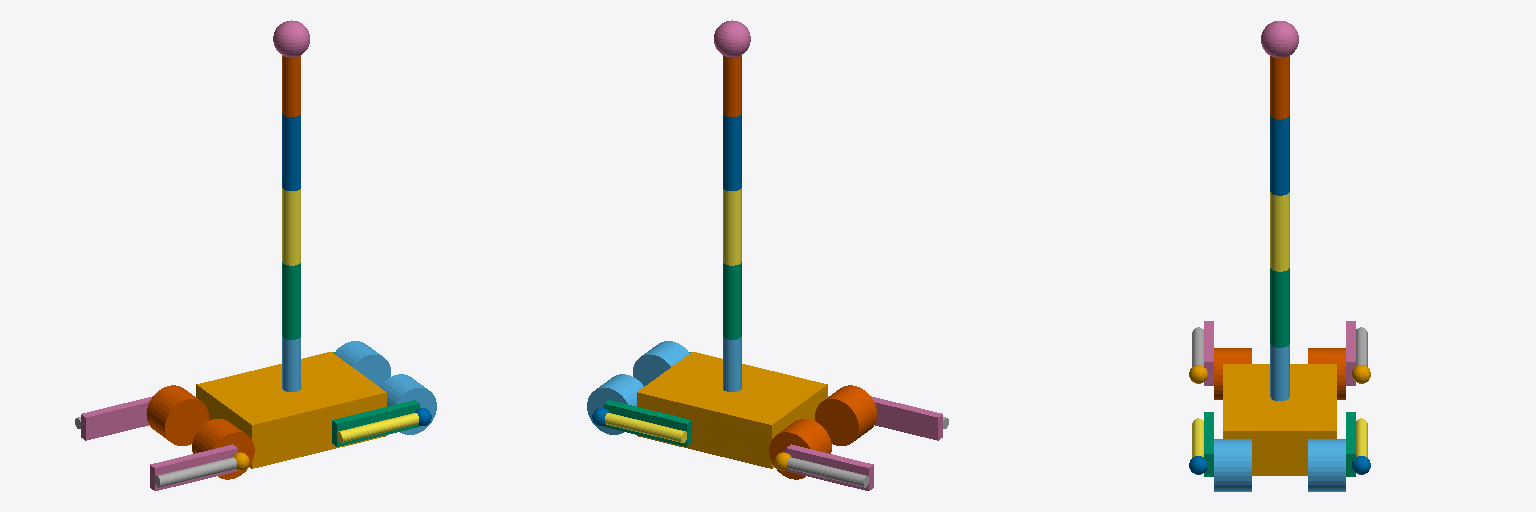
--- Facts derived from the render (not from the file) ---
3 views of the same robot in one strip: view 1: azimuth 30°, elevation 25°; view 2: azimuth 150°, elevation 25°; view 3: azimuth 270°, elevation 25° (orthographic).
Robot: spirit — 23 links, 22 joints (17 revolute, 5 fixed); root link body; default pose: every joint at zero.
Links seen in each view (by area): view 1: body, hip1, upper1, hip3, hip2, upper2, tail_link_2, upper3, tail_link_1, tail_link_3, hip0, tail_link_4 (+4 smaller); view 2: body, hip3, upper3, hip1, hip0, upper0, tail_link_2, upper1, tail_link_1, tail_link_3, hip2, tail_link_4 (+4 smaller); view 3: body, hip0, hip2, tail_link_1, tail_link_3, tail_link_2, tail_link_4, tail_mass, tail_link_0, hip1, hip3, upper0 (+3 smaller).
Boxes of the visible links, left/top/right/bottom form: body: left=196, top=352, right=386, bottom=468; hip1: left=146, top=385, right=208, bottom=445; upper1: left=81, top=396, right=152, bottom=440; hip3: left=192, top=419, right=254, bottom=479; hip2: left=380, top=374, right=436, bottom=434; upper2: left=332, top=400, right=419, bottom=446; tail_link_2: left=282, top=188, right=300, bottom=265; upper3: left=150, top=444, right=237, bottom=490; tail_link_1: left=282, top=262, right=300, bottom=339; tail_link_3: left=282, top=114, right=300, bottom=190; hip0: left=334, top=341, right=390, bottom=386; tail_link_4: left=282, top=55, right=300, bottom=116; body: left=637, top=352, right=827, bottom=468; hip3: left=815, top=385, right=877, bottom=445; upper3: left=871, top=396, right=942, bottom=440; hip1: left=769, top=419, right=831, bottom=479; hip0: left=587, top=374, right=643, bottom=434; upper0: left=604, top=400, right=691, bottom=446; tail_link_2: left=723, top=188, right=741, bottom=265; upper1: left=786, top=444, right=873, bottom=490; tail_link_1: left=723, top=262, right=741, bottom=339; tail_link_3: left=723, top=114, right=741, bottom=190; hip2: left=633, top=341, right=689, bottom=386; tail_link_4: left=723, top=55, right=741, bottom=116; body: left=1223, top=364, right=1336, bottom=475; hip0: left=1308, top=439, right=1345, bottom=491; hip2: left=1214, top=439, right=1251, bottom=491; tail_link_1: left=1270, top=268, right=1289, bottom=347; tail_link_3: left=1270, top=116, right=1289, bottom=195; tail_link_2: left=1270, top=192, right=1289, bottom=271; tail_link_4: left=1270, top=56, right=1289, bottom=119; tail_mass: left=1261, top=21, right=1298, bottom=57; tail_link_0: left=1270, top=344, right=1289, bottom=400; hip1: left=1308, top=348, right=1345, bottom=399; hip3: left=1214, top=348, right=1251, bottom=399; upper0: left=1346, top=412, right=1355, bottom=476.
Size in the robot's own frame: 0.7136 by 0.382 by 0.9766 metres.
Geometry: primitives only (box / cylinder / sphere), no mesh files.

robot.urdf — spirit:
<?xml version="1.0" encoding="utf-8"?>
<!-- =================================================================================== -->
<!-- |    This document was autogenerated by xacro from xacro/spirit_gazebo_tail.urdf.xacro | -->
<!-- |    EDITING THIS FILE BY HAND IS NOT RECOMMENDED                                 | -->
<!-- =================================================================================== -->
<!-- 
MIT License (modified)

Copyright (c) 2020 Ghost Robotics
Authors:
Avik De <[email redacted]>
Tom Jacobs <[email redacted]>

Permission is hereby granted, free of charge, to any person obtaining a copy
of this **file** (the "Software"), to deal
in the Software without restriction, including without limitation the rights
to use, copy, modify, merge, publish, distribute, sublicense, and/or sell
copies of the Software, and to permit persons to whom the Software is
furnished to do so, subject to the following conditions:

The above copyright notice and this permission notice shall be included in all
copies or substantial portions of the Software.

THE SOFTWARE IS PROVIDED "AS IS", WITHOUT WARRANTY OF ANY KIND, EXPRESS OR
IMPLIED, INCLUDING BUT NOT LIMITED TO THE WARRANTIES OF MERCHANTABILITY,
FITNESS FOR A PARTICULAR PURPOSE AND NONINFRINGEMENT. IN NO EVENT SHALL THE
AUTHORS OR COPYRIGHT HOLDERS BE LIABLE FOR ANY CLAIM, DAMAGES OR OTHER
LIABILITY, WHETHER IN AN ACTION OF CONTRACT, TORT OR OTHERWISE, ARISING FROM,
OUT OF OR IN CONNECTION WITH THE SOFTWARE OR THE USE OR OTHER DEALINGS IN THE
SOFTWARE. 
-->
<robot name="spirit">
  <!-- Plugins -->
  <gazebo>
    <plugin filename="libgazebo_ros_control.so" name="gazebo_ros_control">
      <robotNamespace>/spirit</robotNamespace>
      <controlPeriod>0.002</controlPeriod>
    </plugin>
    <plugin filename="libground_truth_estimator.so" name="ground_truth_estimator">
      <updateRateHz>500.0</updateRateHz>
    </plugin>
  </gazebo>
  <!--link name="body_dummy">
		<inertial>
			<mass value="${bodyMass}" />
			<inertia ixx="0.05" ixy="0" ixz="0" iyy="0.1" iyz="0" izz="0.1" />
		</inertial>
	</link>
	<joint name="dummy_joint" type="fixed">
		<parent link="body_dummy" />
		<child link="body" />
	</joint-->
  <!-- Body -->
  <link name="body">
    <visual>
      <origin rpy="0 0 0" xyz="0 0 0"/>
      <geometry>
        <box size="0.335 0.24 0.104"/>
      </geometry>
      <material name="darkgray"/>
    </visual>
    <inertial>
      <mass value="7.388"/>
      <!--<mass value="${bodyMass}" /> -->
      <!-- Uniform box -->
      <!-- <inertia ixx="1/12*${bodyMass}*(${bodyWidth}*${bodyWidth} + ${bodyHeight}*${bodyHeight})"  ixy="0"  ixz="0" iyy="1/12*${bodyMass}*(${bodyLength}*${bodyLength} + ${bodyHeight}*${bodyHeight})" iyz="0" izz="1/12*${bodyMass}*(${bodyLength}*${bodyLength} + ${bodyWidth}*${bodyWidth})"/> -->
      <inertia ixx="0.0642434782" ixy="0" ixz="0" iyy="0.1284869565" iyz="0" izz="0.1284869565"/>
      <!--<inertia ixx="0.05" ixy="0" ixz="0" iyy="0.1" iyz="0" izz="0.1" />-->
    </inertial>
    <!-- Just copy geometry for collision -->
    <collision>
      <origin rpy="0 0 0" xyz="0 0 0"/>
      <geometry>
        <box size="0.335 0.24 0.104"/>
      </geometry>
    </collision>
  </link>
  <gazebo reference="body">
    <material>Gazebo/Black</material>
  </gazebo>
  <!-- Hip motor -->
  <link name="hip0">
    <visual>
      <origin rpy="1.5707963268 0 0" xyz="0 0.028 0"/>
      <geometry>
        <cylinder length="0.08" radius="0.055"/>
      </geometry>
    </visual>
    <collision>
      <origin rpy="1.5707963268 0 0" xyz="0 0.028 0"/>
      <geometry>
        <cylinder length="0.08" radius="0.055"/>
      </geometry>
    </collision>
    <inertial>
      <origin rpy="1.5707963268 0 0" xyz="0 0.028 0"/>
      <mass value="0.575"/>
      <inertia ixx="0.000741510416667" ixy="0" ixz="0" iyy="0.000741510416667" iyz="0" izz="0.0008696875"/>
      <!-- Okay for now... forgot when cylinder is formed what direction is x pointing in -->
      <!--inertia ixx="0.00066963541" ixy="0" ixz="0" iyy="0.00066963541" iyz="0" izz="0.0008696875" /-->
    </inertial>
  </link>
  <gazebo reference="hip0">
    <material>Gazebo/Grey</material>
  </gazebo>
  <!-- Abduction joint. Joint names are: 8 9 10 11 -->
  <joint name="8" type="revolute">
    <parent link="body"/>
    <child link="hip0"/>
    <axis xyz="1 0 0"/>
    <origin xyz="0.2263 0.07 0"/>
    <limit effort="21" lower="-0.707" upper="0.707" velocity="37.7"/>
    <dynamics damping="0.0" friction="0.0"/>
  </joint>
  <!-- Transmission elements required for Gazebo -->
  <transmission name="transmission_8">
    <type>transmission_interface/SimpleTransmission</type>
    <joint name="8">
      <hardwareInterface>hardware_interface/EffortJointInterface</hardwareInterface>
    </joint>
    <actuator name="motor_8">
      <hardwareInterface>EffortJointInterface</hardwareInterface>
      <mechanicalReduction>1</mechanicalReduction>
    </actuator>
  </transmission>
  <!-- Upper leg -->
  <link name="upper0">
    <visual>
      <origin rpy="0 0 0" xyz="-0.103 -0.022 0"/>
      <geometry>
        <box size="0.206 0.022 0.055"/>
      </geometry>
      <material name="silver"/>
    </visual>
    <collision>
      <origin rpy="0 0 0" xyz="-0.103 -0.022 0"/>
      <geometry>
        <box size="0.206 0.022 0.055"/>
      </geometry>
    </collision>
    <inertial>
      <origin rpy="0 0 0" xyz="-0.103 -0.022 0"/>
      <mass value="0.792"/>
      <!--<inertia ixx="${upperLegIxx}" ixy="0" ixz="0" iyy="${upperLegIyy}" iyz="0" izz="${upperLegIzz}" /> -->
      <inertia ixx="0.000231594" ixy="0" ixz="0" iyy="0.003000426" iyz="0" izz="0.00283272"/>
    </inertial>
  </link>
  <gazebo reference="upper0">
    <self_collide>0</self_collide>
    <material>Gazebo/DarkGrey</material>
  </gazebo>
  <!-- Hip joint. (Motor to upper leg). Joint names are: 0 2 4 6 -->
  <joint name="0" type="revolute">
    <parent link="hip0"/>
    <child link="upper0"/>
    <axis xyz="0 -1 0"/>
    <origin xyz="0 0.10098 0"/>
    <!--  rpy="0 -0.3 0" -->
    <limit effort="21" lower="-1.57" upper="3.14" velocity="37.7"/>
    <dynamics damping="0.0" friction="0.0"/>
  </joint>
  <!-- Transmission elements required for Gazebo -->
  <transmission name="transmission_0">
    <type>transmission_interface/SimpleTransmission</type>
    <joint name="0">
      <hardwareInterface>hardware_interface/EffortJointInterface</hardwareInterface>
    </joint>
    <actuator name="motor_0">
      <hardwareInterface>EffortJointInterface</hardwareInterface>
      <mechanicalReduction>1</mechanicalReduction>
    </actuator>
  </transmission>
  <!-- Lower leg -->
  <link name="lower0">
    <self_collide>0</self_collide>
    <visual>
      <origin rpy="0 1.5707963268 0" xyz="0.103 0 0"/>
      <geometry>
        <cylinder length="0.206" radius="0.013"/>
      </geometry>
      <material name="darkgray"/>
    </visual>
    <collision>
      <origin rpy="0 1.5707963268 0" xyz="0.103 0 0"/>
      <geometry>
        <cylinder length="0.206" radius="0.013"/>
      </geometry>
    </collision>
    <inertial>
      <origin rpy="0 0 0" xyz="0.103 0 0"/>
      <mass value="0.075"/>
      <!--inertia ixx="${lowerLegIxx}" ixy="0" ixz="0" iyy="${lowerLegIyy}" iyz="0" izz="${lowerLegIzz}" /-->
      <inertia ixx="2.193125e-05" ixy="0" ixz="0" iyy="0.00028413125" iyz="0" izz="0.00026825"/>
    </inertial>
  </link>
  <gazebo reference="lower0">
    <material>Gazebo/Grey</material>
  </gazebo>
  <!-- Knee joint. Joint names are: 1 3 5 7 -->
  <joint name="1" type="revolute">
    <parent link="upper0"/>
    <child link="lower0"/>
    <axis xyz="0 1 0"/>
    <origin xyz="-0.206 0 0"/>
    <!--rpy="0 0.5 0"-->
    <!--<limit effort="${jointEffortLimit}" velocity="${jointSpeedLimit}" lower="0" upper="${pi}" />-->
    <limit effort="32" lower="-6.28" upper="6.28" velocity="25.1"/>
    <dynamics damping="0.0" friction="0.0"/>
  </joint>
  <!-- Transmission elements required for Gazebo -->
  <transmission name="transmission_1">
    <type>transmission_interface/SimpleTransmission</type>
    <joint name="1">
      <hardwareInterface>hardware_interface/EffortJointInterface</hardwareInterface>
    </joint>
    <actuator name="motor_1">
      <hardwareInterface>EffortJointInterface</hardwareInterface>
      <mechanicalReduction>1</mechanicalReduction>
    </actuator>
  </transmission>
  <!-- Toe -->
  <link name="toe0">
    <contact>
      <friction_anchor/>
      <stiffness value="30000.0"/>
      <damping value="1000.0"/>
      <spinning_friction value="0.3"/>
      <lateral_friction value="50.0"/>
    </contact>
    <visual>
      <origin rpy="0 0 0" xyz="0 0 0"/>
      <geometry>
        <sphere radius="0.02"/>
      </geometry>
      <material name="darkgray"/>
    </visual>
    <collision>
      <origin rpy="0 0 0" xyz="0 0 0"/>
      <geometry>
        <sphere radius="0.02"/>
      </geometry>
    </collision>
    <inertial>
      <mass value="0.015"/>
      <inertia ixx="0.000025" ixy="0" ixz="0" iyy="0.000025" iyz="0" izz="0.000025"/>
      <!-- <inertia ixx="2/5*${toeMass}*${toeRadius}*${toeRadius}"  ixy="0"  ixz="0" iyy="2/5*${toeMass}*${toeRadius}*${toeRadius}" iyz="0" izz="2/5*${toeMass}*${toeRadius}*${toeRadius}" /> -->
    </inertial>
  </link>
  <gazebo reference="toe0">
    <self_collide>0</self_collide>
    <material>Gazebo/Black</material>
    <collision>
      <surface>
        <bounce>
          <restitution_coefficient>0</restitution_coefficient>
          <threshold>1e+06</threshold>
        </bounce>
        <friction>
          <torsional>
            <coefficient>0.3</coefficient>
          </torsional>
          <ode>
            <mu>100.0</mu>
            <mu2>50.0</mu2>
          </ode>
          <bullet>
            <rolling_friction>0.3</rolling_friction>
            <friction2>50.0</friction2>
          </bullet>
        </friction>
        <contact>
          <bullet>
            <kp>30000.0</kp>
            <kd>1000.0</kd>
          </bullet>
          <ode>
            <kp>30000.0</kp>
            <kd>1000.0</kd>
          </ode>
        </contact>
      </surface>
    </collision>
  </gazebo>
  <joint name="jtoe0" type="fixed">
    <parent link="lower0"/>
    <child link="toe0"/>
    <origin xyz="0.206 0 -0.0"/>
    <dynamics damping="0.0" friction="0.0"/>
  </joint>
  <!-- Hip motor -->
  <link name="hip1">
    <visual>
      <origin rpy="1.5707963268 0 0" xyz="0 0.028 0"/>
      <geometry>
        <cylinder length="0.08" radius="0.055"/>
      </geometry>
    </visual>
    <collision>
      <origin rpy="1.5707963268 0 0" xyz="0 0.028 0"/>
      <geometry>
        <cylinder length="0.08" radius="0.055"/>
      </geometry>
    </collision>
    <inertial>
      <origin rpy="1.5707963268 0 0" xyz="0 0.028 0"/>
      <mass value="0.575"/>
      <inertia ixx="0.000741510416667" ixy="0" ixz="0" iyy="0.000741510416667" iyz="0" izz="0.0008696875"/>
      <!-- Okay for now... forgot when cylinder is formed what direction is x pointing in -->
      <!--inertia ixx="0.00066963541" ixy="0" ixz="0" iyy="0.00066963541" iyz="0" izz="0.0008696875" /-->
    </inertial>
  </link>
  <gazebo reference="hip1">
    <material>Gazebo/Grey</material>
  </gazebo>
  <!-- Abduction joint. Joint names are: 8 9 10 11 -->
  <joint name="9" type="revolute">
    <parent link="body"/>
    <child link="hip1"/>
    <axis xyz="1 0 0"/>
    <origin xyz="-0.2263 0.07 0"/>
    <limit effort="21" lower="-0.707" upper="0.707" velocity="37.7"/>
    <dynamics damping="0.0" friction="0.0"/>
  </joint>
  <!-- Transmission elements required for Gazebo -->
  <transmission name="transmission_9">
    <type>transmission_interface/SimpleTransmission</type>
    <joint name="9">
      <hardwareInterface>hardware_interface/EffortJointInterface</hardwareInterface>
    </joint>
    <actuator name="motor_9">
      <hardwareInterface>EffortJointInterface</hardwareInterface>
      <mechanicalReduction>1</mechanicalReduction>
    </actuator>
  </transmission>
  <!-- Upper leg -->
  <link name="upper1">
    <visual>
      <origin rpy="0 0 0" xyz="-0.103 -0.022 0"/>
      <geometry>
        <box size="0.206 0.022 0.055"/>
      </geometry>
      <material name="silver"/>
    </visual>
    <collision>
      <origin rpy="0 0 0" xyz="-0.103 -0.022 0"/>
      <geometry>
        <box size="0.206 0.022 0.055"/>
      </geometry>
    </collision>
    <inertial>
      <origin rpy="0 0 0" xyz="-0.103 -0.022 0"/>
      <mass value="0.792"/>
      <!--<inertia ixx="${upperLegIxx}" ixy="0" ixz="0" iyy="${upperLegIyy}" iyz="0" izz="${upperLegIzz}" /> -->
      <inertia ixx="0.000231594" ixy="0" ixz="0" iyy="0.003000426" iyz="0" izz="0.00283272"/>
    </inertial>
  </link>
  <gazebo reference="upper1">
    <self_collide>0</self_collide>
    <material>Gazebo/DarkGrey</material>
  </gazebo>
  <!-- Hip joint. (Motor to upper leg). Joint names are: 0 2 4 6 -->
  <joint name="2" type="revolute">
    <parent link="hip1"/>
    <child link="upper1"/>
    <axis xyz="0 -1 0"/>
    <origin xyz="0 0.10098 0"/>
    <!--  rpy="0 -0.3 0" -->
    <limit effort="21" lower="-1.57" upper="3.14" velocity="37.7"/>
    <dynamics damping="0.0" friction="0.0"/>
  </joint>
  <!-- Transmission elements required for Gazebo -->
  <transmission name="transmission_2">
    <type>transmission_interface/SimpleTransmission</type>
    <joint name="2">
      <hardwareInterface>hardware_interface/EffortJointInterface</hardwareInterface>
    </joint>
    <actuator name="motor_2">
      <hardwareInterface>EffortJointInterface</hardwareInterface>
      <mechanicalReduction>1</mechanicalReduction>
    </actuator>
  </transmission>
  <!-- Lower leg -->
  <link name="lower1">
    <self_collide>0</self_collide>
    <visual>
      <origin rpy="0 1.5707963268 0" xyz="0.103 0 0"/>
      <geometry>
        <cylinder length="0.206" radius="0.013"/>
      </geometry>
      <material name="darkgray"/>
    </visual>
    <collision>
      <origin rpy="0 1.5707963268 0" xyz="0.103 0 0"/>
      <geometry>
        <cylinder length="0.206" radius="0.013"/>
      </geometry>
    </collision>
    <inertial>
      <origin rpy="0 0 0" xyz="0.103 0 0"/>
      <mass value="0.075"/>
      <!--inertia ixx="${lowerLegIxx}" ixy="0" ixz="0" iyy="${lowerLegIyy}" iyz="0" izz="${lowerLegIzz}" /-->
      <inertia ixx="2.193125e-05" ixy="0" ixz="0" iyy="0.00028413125" iyz="0" izz="0.00026825"/>
    </inertial>
  </link>
  <gazebo reference="lower1">
    <material>Gazebo/Grey</material>
  </gazebo>
  <!-- Knee joint. Joint names are: 1 3 5 7 -->
  <joint name="3" type="revolute">
    <parent link="upper1"/>
    <child link="lower1"/>
    <axis xyz="0 1 0"/>
    <origin xyz="-0.206 0 0"/>
    <!--rpy="0 0.5 0"-->
    <!--<limit effort="${jointEffortLimit}" velocity="${jointSpeedLimit}" lower="0" upper="${pi}" />-->
    <limit effort="32" lower="-6.28" upper="6.28" velocity="25.1"/>
    <dynamics damping="0.0" friction="0.0"/>
  </joint>
  <!-- Transmission elements required for Gazebo -->
  <transmission name="transmission_3">
    <type>transmission_interface/SimpleTransmission</type>
    <joint name="3">
      <hardwareInterface>hardware_interface/EffortJointInterface</hardwareInterface>
    </joint>
    <actuator name="motor_3">
      <hardwareInterface>EffortJointInterface</hardwareInterface>
      <mechanicalReduction>1</mechanicalReduction>
    </actuator>
  </transmission>
  <!-- Toe -->
  <link name="toe1">
    <contact>
      <friction_anchor/>
      <stiffness value="30000.0"/>
      <damping value="1000.0"/>
      <spinning_friction value="0.3"/>
      <lateral_friction value="50.0"/>
    </contact>
    <visual>
      <origin rpy="0 0 0" xyz="0 0 0"/>
      <geometry>
        <sphere radius="0.02"/>
      </geometry>
      <material name="darkgray"/>
    </visual>
    <collision>
      <origin rpy="0 0 0" xyz="0 0 0"/>
      <geometry>
        <sphere radius="0.02"/>
      </geometry>
    </collision>
    <inertial>
      <mass value="0.015"/>
      <inertia ixx="0.000025" ixy="0" ixz="0" iyy="0.000025" iyz="0" izz="0.000025"/>
      <!-- <inertia ixx="2/5*${toeMass}*${toeRadius}*${toeRadius}"  ixy="0"  ixz="0" iyy="2/5*${toeMass}*${toeRadius}*${toeRadius}" iyz="0" izz="2/5*${toeMass}*${toeRadius}*${toeRadius}" /> -->
    </inertial>
  </link>
  <gazebo reference="toe1">
    <self_collide>0</self_collide>
    <material>Gazebo/Black</material>
    <collision>
      <surface>
        <bounce>
          <restitution_coefficient>0</restitution_coefficient>
          <threshold>1e+06</threshold>
        </bounce>
        <friction>
          <torsional>
            <coefficient>0.3</coefficient>
          </torsional>
          <ode>
            <mu>100.0</mu>
            <mu2>50.0</mu2>
          </ode>
          <bullet>
            <rolling_friction>0.3</rolling_friction>
            <friction2>50.0</friction2>
          </bullet>
        </friction>
        <contact>
          <bullet>
            <kp>30000.0</kp>
            <kd>1000.0</kd>
          </bullet>
          <ode>
            <kp>30000.0</kp>
            <kd>1000.0</kd>
          </ode>
        </contact>
      </surface>
    </collision>
  </gazebo>
  <joint name="jtoe1" type="fixed">
    <parent link="lower1"/>
    <child link="toe1"/>
    <origin xyz="0.206 0 -0.0"/>
    <dynamics damping="0.0" friction="0.0"/>
  </joint>
  <!-- Hip motor -->
  <link name="hip2">
    <visual>
      <origin rpy="1.5707963268 0 0" xyz="0 -0.028 0"/>
      <geometry>
        <cylinder length="0.08" radius="0.055"/>
      </geometry>
    </visual>
    <collision>
      <origin rpy="1.5707963268 0 0" xyz="0 -0.028 0"/>
      <geometry>
        <cylinder length="0.08" radius="0.055"/>
      </geometry>
    </collision>
    <inertial>
      <origin rpy="1.5707963268 0 0" xyz="0 -0.028 0"/>
      <mass value="0.575"/>
      <inertia ixx="0.000741510416667" ixy="0" ixz="0" iyy="0.000741510416667" iyz="0" izz="0.0008696875"/>
      <!-- Okay for now... forgot when cylinder is formed what direction is x pointing in -->
      <!--inertia ixx="0.00066963541" ixy="0" ixz="0" iyy="0.00066963541" iyz="0" izz="0.0008696875" /-->
    </inertial>
  </link>
  <gazebo reference="hip2">
    <material>Gazebo/Grey</material>
  </gazebo>
  <!-- Abduction joint. Joint names are: 8 9 10 11 -->
  <joint name="10" type="revolute">
    <parent link="body"/>
    <child link="hip2"/>
    <axis xyz="1 0 0"/>
    <origin xyz="0.2263 -0.07 0"/>
    <limit effort="21" lower="-0.707" upper="0.707" velocity="37.7"/>
    <dynamics damping="0.0" friction="0.0"/>
  </joint>
  <!-- Transmission elements required for Gazebo -->
  <transmission name="transmission_10">
    <type>transmission_interface/SimpleTransmission</type>
    <joint name="10">
      <hardwareInterface>hardware_interface/EffortJointInterface</hardwareInterface>
    </joint>
    <actuator name="motor_10">
      <hardwareInterface>EffortJointInterface</hardwareInterface>
      <mechanicalReduction>1</mechanicalReduction>
    </actuator>
  </transmission>
  <!-- Upper leg -->
  <link name="upper2">
    <visual>
      <origin rpy="0 0 0" xyz="-0.103 0.022 0"/>
      <geometry>
        <box size="0.206 0.022 0.055"/>
      </geometry>
      <material name="silver"/>
    </visual>
    <collision>
      <origin rpy="0 0 0" xyz="-0.103 0.022 0"/>
      <geometry>
        <box size="0.206 0.022 0.055"/>
      </geometry>
    </collision>
    <inertial>
      <origin rpy="0 0 0" xyz="-0.103 0.022 0"/>
      <mass value="0.792"/>
      <!--<inertia ixx="${upperLegIxx}" ixy="0" ixz="0" iyy="${upperLegIyy}" iyz="0" izz="${upperLegIzz}" /> -->
      <inertia ixx="0.000231594" ixy="0" ixz="0" iyy="0.003000426" iyz="0" izz="0.00283272"/>
    </inertial>
  </link>
  <gazebo reference="upper2">
    <self_collide>0</self_collide>
    <material>Gazebo/DarkGrey</material>
  </gazebo>
  <!-- Hip joint. (Motor to upper leg). Joint names are: 0 2 4 6 -->
  <joint name="4" type="revolute">
    <parent link="hip2"/>
    <child link="upper2"/>
    <axis xyz="0 -1 0"/>
    <origin xyz="0 -0.10098 0"/>
    <!--  rpy="0 -0.3 0" -->
    <limit effort="21" lower="-1.57" upper="3.14" velocity="37.7"/>
    <dynamics damping="0.0" friction="0.0"/>
  </joint>
  <!-- Transmission elements required for Gazebo -->
  <transmission name="transmission_4">
    <type>transmission_interface/SimpleTransmission</type>
    <joint name="4">
      <hardwareInterface>hardware_interface/EffortJointInterface</hardwareInterface>
    </joint>
    <actuator name="motor_4">
      <hardwareInterface>EffortJointInterface</hardwareInterface>
      <mechanicalReduction>1</mechanicalReduction>
    </actuator>
  </transmission>
  <!-- Lower leg -->
  <link name="lower2">
    <self_collide>0</self_collide>
    <visual>
      <origin rpy="0 1.5707963268 0" xyz="0.103 0 0"/>
      <geometry>
        <cylinder length="0.206" radius="0.013"/>
      </geometry>
      <material name="darkgray"/>
    </visual>
    <collision>
      <origin rpy="0 1.5707963268 0" xyz="0.103 0 0"/>
      <geometry>
        <cylinder length="0.206" radius="0.013"/>
      </geometry>
    </collision>
    <inertial>
      <origin rpy="0 0 0" xyz="0.103 0 0"/>
      <mass value="0.075"/>
      <!--inertia ixx="${lowerLegIxx}" ixy="0" ixz="0" iyy="${lowerLegIyy}" iyz="0" izz="${lowerLegIzz}" /-->
      <inertia ixx="2.193125e-05" ixy="0" ixz="0" iyy="0.00028413125" iyz="0" izz="0.00026825"/>
    </inertial>
  </link>
  <gazebo reference="lower2">
    <material>Gazebo/Grey</material>
  </gazebo>
  <!-- Knee joint. Joint names are: 1 3 5 7 -->
  <joint name="5" type="revolute">
    <parent link="upper2"/>
    <child link="lower2"/>
    <axis xyz="0 1 0"/>
    <origin xyz="-0.206 0 0"/>
    <!--rpy="0 0.5 0"-->
    <!--<limit effort="${jointEffortLimit}" velocity="${jointSpeedLimit}" lower="0" upper="${pi}" />-->
    <limit effort="32" lower="-6.28" upper="6.28" velocity="25.1"/>
    <dynamics damping="0.0" friction="0.0"/>
  </joint>
  <!-- Transmission elements required for Gazebo -->
  <transmission name="transmission_5">
    <type>transmission_interface/SimpleTransmission</type>
    <joint name="5">
      <hardwareInterface>hardware_interface/EffortJointInterface</hardwareInterface>
    </joint>
    <actuator name="motor_5">
      <hardwareInterface>EffortJointInterface</hardwareInterface>
      <mechanicalReduction>1</mechanicalReduction>
    </actuator>
  </transmission>
  <!-- Toe -->
  <link name="toe2">
    <contact>
      <friction_anchor/>
      <stiffness value="30000.0"/>
      <damping value="1000.0"/>
      <spinning_friction value="0.3"/>
      <lateral_friction value="50.0"/>
    </contact>
    <visual>
      <origin rpy="0 0 0" xyz="0 0 0"/>
      <geometry>
        <sphere radius="0.02"/>
      </geometry>
      <material name="darkgray"/>
    </visual>
    <collision>
      <origin rpy="0 0 0" xyz="0 0 0"/>
      <geometry>
        <sphere radius="0.02"/>
      </geometry>
    </collision>
    <inertial>
      <mass value="0.015"/>
      <inertia ixx="0.000025" ixy="0" ixz="0" iyy="0.000025" iyz="0" izz="0.000025"/>
      <!-- <inertia ixx="2/5*${toeMass}*${toeRadius}*${toeRadius}"  ixy="0"  ixz="0" iyy="2/5*${toeMass}*${toeRadius}*${toeRadius}" iyz="0" izz="2/5*${toeMass}*${toeRadius}*${toeRadius}" /> -->
    </inertial>
  </link>
  <gazebo reference="toe2">
    <self_collide>0</self_collide>
    <material>Gazebo/Black</material>
    <collision>
      <surface>
        <bounce>
          <restitution_coefficient>0</restitution_coefficient>
          <threshold>1e+06</threshold>
        </bounce>
        <friction>
          <torsional>
            <coefficient>0.3</coefficient>
          </torsional>
          <ode>
            <mu>100.0</mu>
            <mu2>50.0</mu2>
          </ode>
          <bullet>
            <rolling_friction>0.3</rolling_friction>
            <friction2>50.0</friction2>
          </bullet>
        </friction>
        <contact>
          <bullet>
            <kp>30000.0</kp>
            <kd>1000.0</kd>
          </bullet>
          <ode>
            <kp>30000.0</kp>
            <kd>1000.0</kd>
          </ode>
        </contact>
      </surface>
    </collision>
  </gazebo>
  <joint name="jtoe2" type="fixed">
    <parent link="lower2"/>
    <child link="toe2"/>
    <origin xyz="0.206 0 -0.0"/>
    <dynamics damping="0.0" friction="0.0"/>
  </joint>
  <!-- Hip motor -->
  <link name="hip3">
    <visual>
      <origin rpy="1.5707963268 0 0" xyz="0 -0.028 0"/>
      <geometry>
        <cylinder length="0.08" radius="0.055"/>
      </geometry>
    </visual>
    <collision>
      <origin rpy="1.5707963268 0 0" xyz="0 -0.028 0"/>
      <geometry>
        <cylinder length="0.08" radius="0.055"/>
      </geometry>
    </collision>
    <inertial>
      <origin rpy="1.5707963268 0 0" xyz="0 -0.028 0"/>
      <mass value="0.575"/>
      <inertia ixx="0.000741510416667" ixy="0" ixz="0" iyy="0.000741510416667" iyz="0" izz="0.0008696875"/>
      <!-- Okay for now... forgot when cylinder is formed what direction is x pointing in -->
      <!--inertia ixx="0.00066963541" ixy="0" ixz="0" iyy="0.00066963541" iyz="0" izz="0.0008696875" /-->
    </inertial>
  </link>
  <gazebo reference="hip3">
    <material>Gazebo/Grey</material>
  </gazebo>
  <!-- Abduction joint. Joint names are: 8 9 10 11 -->
  <joint name="11" type="revolute">
    <parent link="body"/>
    <child link="hip3"/>
    <axis xyz="1 0 0"/>
    <origin xyz="-0.2263 -0.07 0"/>
    <limit effort="21" lower="-0.707" upper="0.707" velocity="37.7"/>
    <dynamics damping="0.0" friction="0.0"/>
  </joint>
  <!-- Transmission elements required for Gazebo -->
  <transmission name="transmission_11">
    <type>transmission_interface/SimpleTransmission</type>
    <joint name="11">
      <hardwareInterface>hardware_interface/EffortJointInterface</hardwareInterface>
    </joint>
    <actuator name="motor_11">
      <hardwareInterface>EffortJointInterface</hardwareInterface>
      <mechanicalReduction>1</mechanicalReduction>
    </actuator>
  </transmission>
  <!-- Upper leg -->
  <link name="upper3">
    <visual>
      <origin rpy="0 0 0" xyz="-0.103 0.022 0"/>
      <geometry>
        <box size="0.206 0.022 0.055"/>
      </geometry>
      <material name="silver"/>
    </visual>
    <collision>
      <origin rpy="0 0 0" xyz="-0.103 0.022 0"/>
      <geometry>
        <box size="0.206 0.022 0.055"/>
      </geometry>
    </collision>
    <inertial>
      <origin rpy="0 0 0" xyz="-0.103 0.022 0"/>
      <mass value="0.792"/>
      <!--<inertia ixx="${upperLegIxx}" ixy="0" ixz="0" iyy="${upperLegIyy}" iyz="0" izz="${upperLegIzz}" /> -->
      <inertia ixx="0.000231594" ixy="0" ixz="0" iyy="0.003000426" iyz="0" izz="0.00283272"/>
    </inertial>
  </link>
  <gazebo reference="upper3">
    <self_collide>0</self_collide>
    <material>Gazebo/DarkGrey</material>
  </gazebo>
  <!-- Hip joint. (Motor to upper leg). Joint names are: 0 2 4 6 -->
  <joint name="6" type="revolute">
    <parent link="hip3"/>
    <child link="upper3"/>
    <axis xyz="0 -1 0"/>
    <origin xyz="0 -0.10098 0"/>
    <!--  rpy="0 -0.3 0" -->
    <limit effort="21" lower="-1.57" upper="3.14" velocity="37.7"/>
    <dynamics damping="0.0" friction="0.0"/>
  </joint>
  <!-- Transmission elements required for Gazebo -->
  <transmission name="transmission_6">
    <type>transmission_interface/SimpleTransmission</type>
    <joint name="6">
      <hardwareInterface>hardware_interface/EffortJointInterface</hardwareInterface>
    </joint>
    <actuator name="motor_6">
      <hardwareInterface>EffortJointInterface</hardwareInterface>
      <mechanicalReduction>1</mechanicalReduction>
    </actuator>
  </transmission>
  <!-- Lower leg -->
  <link name="lower3">
    <self_collide>0</self_collide>
    <visual>
      <origin rpy="0 1.5707963268 0" xyz="0.103 0 0"/>
      <geometry>
        <cylinder length="0.206" radius="0.013"/>
      </geometry>
      <material name="darkgray"/>
    </visual>
    <collision>
      <origin rpy="0 1.5707963268 0" xyz="0.103 0 0"/>
      <geometry>
        <cylinder length="0.206" radius="0.013"/>
      </geometry>
    </collision>
    <inertial>
      <origin rpy="0 0 0" xyz="0.103 0 0"/>
      <mass value="0.075"/>
      <!--inertia ixx="${lowerLegIxx}" ixy="0" ixz="0" iyy="${lowerLegIyy}" iyz="0" izz="${lowerLegIzz}" /-->
      <inertia ixx="2.193125e-05" ixy="0" ixz="0" iyy="0.00028413125" iyz="0" izz="0.00026825"/>
    </inertial>
  </link>
  <gazebo reference="lower3">
    <material>Gazebo/Grey</material>
  </gazebo>
  <!-- Knee joint. Joint names are: 1 3 5 7 -->
  <joint name="7" type="revolute">
    <parent link="upper3"/>
    <child link="lower3"/>
    <axis xyz="0 1 0"/>
    <origin xyz="-0.206 0 0"/>
    <!--rpy="0 0.5 0"-->
    <!--<limit effort="${jointEffortLimit}" velocity="${jointSpeedLimit}" lower="0" upper="${pi}" />-->
    <limit effort="32" lower="-6.28" upper="6.28" velocity="25.1"/>
    <dynamics damping="0.0" friction="0.0"/>
  </joint>
  <!-- Transmission elements required for Gazebo -->
  <transmission name="transmission_7">
    <type>transmission_interface/SimpleTransmission</type>
    <joint name="7">
      <hardwareInterface>hardware_interface/EffortJointInterface</hardwareInterface>
    </joint>
    <actuator name="motor_7">
      <hardwareInterface>EffortJointInterface</hardwareInterface>
      <mechanicalReduction>1</mechanicalReduction>
    </actuator>
  </transmission>
  <!-- Toe -->
  <link name="toe3">
    <contact>
      <friction_anchor/>
      <stiffness value="30000.0"/>
      <damping value="1000.0"/>
      <spinning_friction value="0.3"/>
      <lateral_friction value="50.0"/>
    </contact>
    <visual>
      <origin rpy="0 0 0" xyz="0 0 0"/>
      <geometry>
        <sphere radius="0.02"/>
      </geometry>
      <material name="darkgray"/>
    </visual>
    <collision>
      <origin rpy="0 0 0" xyz="0 0 0"/>
      <geometry>
        <sphere radius="0.02"/>
      </geometry>
    </collision>
    <inertial>
      <mass value="0.015"/>
      <inertia ixx="0.000025" ixy="0" ixz="0" iyy="0.000025" iyz="0" izz="0.000025"/>
      <!-- <inertia ixx="2/5*${toeMass}*${toeRadius}*${toeRadius}"  ixy="0"  ixz="0" iyy="2/5*${toeMass}*${toeRadius}*${toeRadius}" iyz="0" izz="2/5*${toeMass}*${toeRadius}*${toeRadius}" /> -->
    </inertial>
  </link>
  <gazebo reference="toe3">
    <self_collide>0</self_collide>
    <material>Gazebo/Black</material>
    <collision>
      <surface>
        <bounce>
          <restitution_coefficient>0</restitution_coefficient>
          <threshold>1e+06</threshold>
        </bounce>
        <friction>
          <torsional>
            <coefficient>0.3</coefficient>
          </torsional>
          <ode>
            <mu>100.0</mu>
            <mu2>50.0</mu2>
          </ode>
          <bullet>
            <rolling_friction>0.3</rolling_friction>
            <friction2>50.0</friction2>
          </bullet>
        </friction>
        <contact>
          <bullet>
            <kp>30000.0</kp>
            <kd>1000.0</kd>
          </bullet>
          <ode>
            <kp>30000.0</kp>
            <kd>1000.0</kd>
          </ode>
        </contact>
      </surface>
    </collision>
  </gazebo>
  <joint name="jtoe3" type="fixed">
    <parent link="lower3"/>
    <child link="toe3"/>
    <origin xyz="0.206 0 -0.0"/>
    <dynamics damping="0.0" friction="0.0"/>
  </joint>
  <!-- Toe Plugins -->
  <gazebo reference="toe0">
    <sensor name="toe0_contact" type="contact">
      <plugin filename="libgazebo_ros_bumper.so" name="toe0_plugin">
        <alwaysOn>true</alwaysOn>
        <updateRate>500</updateRate>
        <bumperTopicName>gazebo/toe0_contact_state</bumperTopicName>
        <frameName>world</frameName>
      </plugin>
      <contact>
        <collision>toe0_collision</collision>
      </contact>
      <update_rate>500</update_rate>
    </sensor>
  </gazebo>
  <gazebo reference="toe1">
    <sensor name="toe1_contact" type="contact">
      <plugin filename="libgazebo_ros_bumper.so" name="toe1_plugin">
        <alwaysOn>true</alwaysOn>
        <updateRate>500</updateRate>
        <bumperTopicName>gazebo/toe1_contact_state</bumperTopicName>
        <frameName>world</frameName>
      </plugin>
      <contact>
        <collision>toe1_collision</collision>
      </contact>
      <update_rate>500</update_rate>
    </sensor>
  </gazebo>
  <gazebo reference="toe2">
    <sensor name="toe2_contact" type="contact">
      <plugin filename="libgazebo_ros_bumper.so" name="toe2_plugin">
        <alwaysOn>true</alwaysOn>
        <updateRate>500</updateRate>
        <bumperTopicName>gazebo/toe2_contact_state</bumperTopicName>
        <frameName>world</frameName>
      </plugin>
      <contact>
        <collision>toe2_collision</collision>
      </contact>
      <update_rate>500</update_rate>
    </sensor>
  </gazebo>
  <gazebo reference="toe3">
    <sensor name="toe3_contact" type="contact">
      <plugin filename="libgazebo_ros_bumper.so" name="toe3_plugin">
        <alwaysOn>true</alwaysOn>
        <updateRate>500</updateRate>
        <bumperTopicName>gazebo/toe3_contact_state</bumperTopicName>
        <frameName>world</frameName>
      </plugin>
      <contact>
        <collision>toe3_collision</collision>
      </contact>
      <update_rate>500</update_rate>
    </sensor>
  </gazebo>
  <!-- Preserve fixed joints -->
  <gazebo reference="jtoe0">
    <preserveFixedJoint>true</preserveFixedJoint>
  </gazebo>
  <gazebo reference="jtoe1">
    <preserveFixedJoint>true</preserveFixedJoint>
  </gazebo>
  <gazebo reference="jtoe2">
    <preserveFixedJoint>true</preserveFixedJoint>
  </gazebo>
  <gazebo reference="jtoe3">
    <preserveFixedJoint>true</preserveFixedJoint>
  </gazebo>
  <!-- TAIL -->
  <!-- Remark: Need to incorporate reasonable mass & inertia calc wrt tailLength -->
  <!-- Tail Links -->
  <link name="tail_link_0">
    <visual>
      <origin rpy="0 0 0" xyz="0 0 0.08816"/>
      <geometry>
        <cylinder length="0.17632" radius="0.02"/>
      </geometry>
      <material name="gray"/>
    </visual>
    <inertial>
      <origin rpy="0 0 0" xyz="0 0 0.08816"/>
      <mass value="0.001"/>
      <!--<inertia ixx="${tailLinkMass/12*(3*0.02*0.02 + tailLength*tailLength)}" ixy="0" ixz="0" iyy="${tailLinkMass/12*(3*0.02*0.02 + tailLength*tailLength)}" iyz="0.0" izz="${tailLinkMass*(0.02*0.02)/2}" /> -->
      <!-- Assume inertia of a sphere & scale base of 2/5MR^2 -->
      <inertia ixx="4e-06" ixy="0" ixz="0" iyy="4e-06" iyz="0" izz="4e-06"/>
    </inertial>
    <!-- No need to add collision boxes for this -->
  </link>
  <gazebo reference="tail_link_0">
    <material>Gazebo/Gray</material>
  </gazebo>
  <link name="tail_link_1">
    <visual>
      <origin rpy="0 0 0" xyz="0 0 0.08816"/>
      <geometry>
        <cylinder length="0.17632" radius="0.02"/>
      </geometry>
      <material name="gray"/>
    </visual>
    <inertial>
      <origin rpy="0 0 0" xyz="0 0 0.08816"/>
      <mass value="0.001"/>
      <inertia ixx="4e-06" ixy="0" ixz="0" iyy="4e-06" iyz="0" izz="4e-06"/>
    </inertial>
  </link>
  <gazebo reference="tail_link_1">
    <material>Gazebo/Gray</material>
  </gazebo>
  <link name="tail_link_2">
    <visual>
      <origin rpy="0 0 0" xyz="0 0 0.08816"/>
      <geometry>
        <cylinder length="0.17632" radius="0.02"/>
      </geometry>
      <material name="gray"/>
    </visual>
    <inertial>
      <origin rpy="0 0 0" xyz="0 0 0.08816"/>
      <mass value="0.001"/>
      <inertia ixx="4e-06" ixy="0" ixz="0" iyy="4e-06" iyz="0" izz="4e-06"/>
    </inertial>
  </link>
  <gazebo reference="tail_link_2">
    <material>Gazebo/Gray</material>
  </gazebo>
  <link name="tail_link_3">
    <visual>
      <origin rpy="0 0 0" xyz="0 0 0.08816"/>
      <geometry>
        <cylinder length="0.17632" radius="0.02"/>
      </geometry>
      <material name="gray"/>
    </visual>
    <inertial>
      <origin rpy="0 0 0" xyz="0 0 0.08816"/>
      <mass value="0.001"/>
      <inertia ixx="4e-06" ixy="0" ixz="0" iyy="4e-06" iyz="0" izz="4e-06"/>
    </inertial>
  </link>
  <gazebo reference="tail_link_3">
    <material>Gazebo/Gray</material>
  </gazebo>
  <link name="tail_link_4">
    <visual>
      <origin rpy="0 0 0" xyz="0 0 0.08816"/>
      <geometry>
        <cylinder length="0.17632" radius="0.02"/>
      </geometry>
      <material name="gray"/>
    </visual>
    <inertial>
      <origin rpy="0 0 0" xyz="0 0 0.08816"/>
      <mass value="0.001"/>
      <inertia ixx="4e-06" ixy="0" ixz="0" iyy="4e-06" iyz="0" izz="4e-06"/>
    </inertial>
  </link>
  <gazebo reference="tail_link_4">
    <material>Gazebo/Gray</material>
  </gazebo>
  <!--
	<link name="tail_link_5">
		<visual>
			<origin rpy="0 0 0" xyz="0 0 ${tailLength/2}" />
			<geometry>
				<cylinder radius="0.02" length="${tailLength}" />
			</geometry>
			<material name="gray" />
		</visual>
		<inertial>
			<origin xyz="0 0 ${tailLength/2}" rpy="0 0 0" />
			<mass value="${tailLinkMass}" />
			<inertia ixx="${1e-04/(tailNum*tailNum)}" ixy="0" ixz="0" iyy="${1e-04/(tailNum*tailNum)}" iyz="0" izz="${1e-04/(tailNum*tailNum)}" />
		</inertial>
	</link>

	<gazebo reference="tail_link_5">
		<material>Gazebo/Gray</material>
	</gazebo>

	<link name="tail_link_6">
		<visual>
			<origin rpy="0 0 0" xyz="0 0 ${tailLength/2}" />
			<geometry>
				<cylinder radius="0.02" length="${tailLength}" />
			</geometry>
			<material name="gray" />
		</visual>
		<inertial>
			<origin xyz="0 0 ${tailLength/2}" rpy="0 0 0" />
			<mass value="${tailLinkMass}" />
			<inertia ixx="${1e-04/(tailNum*tailNum)}" ixy="0" ixz="0" iyy="${1e-04/(tailNum*tailNum)}" iyz="0" izz="${1e-04/(tailNum*tailNum)}" />
		</inertial>
	</link>

	<gazebo reference="tail_link_6">
		<material>Gazebo/Gray</material>
	</gazebo>

	<link name="tail_link_7">
		<visual>
			<origin rpy="0 0 0" xyz="0 0 ${tailLength/2}" />
			<geometry>
				<cylinder radius="0.02" length="${tailLength}" />
			</geometry>
			<material name="gray" />
		</visual>
		<inertial>
			<origin xyz="0 0 ${tailLength/2}" rpy="0 0 0" />
			<mass value="${tailLinkMass}" />
			<inertia ixx="${1e-04/(tailNum*tailNum)}" ixy="0" ixz="0" iyy="${1e-04/(tailNum*tailNum)}" iyz="0" izz="${1e-04/(tailNum*tailNum)}" />
		</inertial>
	</link>

	<gazebo reference="tail_link_7">
		<material>Gazebo/Gray</material>
	</gazebo>

	<link name="tail_link_8">
		<visual>
			<origin rpy="0 0 0" xyz="0 0 ${tailLength/2}" />
			<geometry>
				<cylinder radius="0.02" length="${tailLength}" />
			</geometry>
			<material name="gray" />
		</visual>
		<inertial>
			<origin xyz="0 0 ${tailLength/2}" rpy="0 0 0" />
			<mass value="${tailLinkMass}" />
			<inertia ixx="${1e-04/(tailNum*tailNum)}" ixy="0" ixz="0" iyy="${1e-04/(tailNum*tailNum)}" iyz="0" izz="${1e-04/(tailNum*tailNum)}" />
		</inertial>
	</link>

	<gazebo reference="tail_link_8">
		<material>Gazebo/Gray</material>
	</gazebo>

	<link name="tail_link_9">
		<visual>
			<origin rpy="0 0 0" xyz="0 0 ${tailLength/2}" />
			<geometry>
				<cylinder radius="0.02" length="${tailLength}" />
			</geometry>
			<material name="gray" />
		</visual>
		<inertial>
			<origin xyz="0 0 ${tailLength/2}" rpy="0 0 0" />
			<mass value="${tailLinkMass}" />
			<inertia ixx="${1e-04/(tailNum*tailNum)}" ixy="0" ixz="0" iyy="${1e-04/(tailNum*tailNum)}" iyz="0" izz="${1e-04/(tailNum*tailNum)}" />
		</inertial>
	</link> 

	<gazebo reference="tail_link_9">
		<material>Gazebo/Gray</material>
	</gazebo> -->
  <link name="tail_mass">
    <visual>
      <origin rpy="0 0 0" xyz="0 0 0"/>
      <geometry>
        <sphere radius="0.04"/>
      </geometry>
      <material name="gray"/>
    </visual>
    <inertial>
      <mass value="0.2764"/>
      <inertia ixx="2.764e-04" ixy="0" ixz="0" iyy="2.764e-04" iyz="0" izz="2.764e-04"/>
    </inertial>
    <collision>
      <origin rpy="0 0 0" xyz=" 0 0 0"/>
      <geometry>
        <sphere radius="0.04"/>
      </geometry>
    </collision>
  </link>
  <gazebo reference="tail_mass">
    <material>Gazebo/Gray</material>
  </gazebo>
  <!-- Tail Joints -->
  <!-- Non-planar Tail -->
  <!--<joint name="body_tail_joint_0" type="revolute">
		<parent link="body" />
		<child link="tail_link_0" />
		<axis xyz="1 0 0" />
		<origin xyz="0 0 0" rpy="0 0 0" />
		<limit effort="50" lower="-1.57" upper="1.57" velocity="40" />
		<dynamics damping="0.0" friction="0.0" />
	</joint>-->
  <!-- Planar Tail -->
  <joint name="body_tail_joint_0" type="revolute">
    <parent link="body"/>
    <child link="tail_link_0"/>
    <axis xyz="0 1 0"/>
    <origin rpy="0 0 0" xyz="0 0 0"/>
    <limit effort="50" lower="-1.57" upper="1.57" velocity="40"/>
    <dynamics damping="0.0" friction="0.0"/>
  </joint>
  <joint name="body_tail_joint_1" type="revolute">
    <parent link="tail_link_0"/>
    <child link="tail_link_1"/>
    <axis xyz="0 1 0"/>
    <origin rpy="0 0 0" xyz="0 0 0.17632"/>
    <limit effort="50" lower="-1.57" upper="1.57" velocity="40"/>
    <dynamics damping="0.0" friction="0.0"/>
  </joint>
  <joint name="body_tail_joint_2" type="revolute">
    <parent link="tail_link_1"/>
    <child link="tail_link_2"/>
    <axis xyz="0 1 0"/>
    <origin rpy="0 0 0" xyz="0 0 0.17632"/>
    <limit effort="50" lower="-1.57" upper="1.57" velocity="40"/>
    <dynamics damping="0.0" friction="0.0"/>
  </joint>
  <joint name="body_tail_joint_3" type="revolute">
    <parent link="tail_link_2"/>
    <child link="tail_link_3"/>
    <axis xyz="0 1 0"/>
    <origin rpy="0 0 0" xyz="0 0 0.17632"/>
    <limit effort="50" lower="-1.57" upper="1.57" velocity="40"/>
    <dynamics damping="0.0" friction="0.0"/>
  </joint>
  <joint name="body_tail_joint_4" type="revolute">
    <parent link="tail_link_3"/>
    <child link="tail_link_4"/>
    <axis xyz="0 1 0"/>
    <origin rpy="0 0 0" xyz="0 0 0.17632"/>
    <limit effort="50" lower="-1.57" upper="1.57" velocity="40"/>
    <dynamics damping="0.0" friction="0.0"/>
  </joint>
  <!--
	<joint name="body_tail_joint_5" type="revolute">
		<parent link="tail_link_4" />
		<child link="tail_link_5" />
		<axis xyz="0 1 0" />
		<origin xyz="0 0 ${tailLength}" rpy="0 0 0" />
		<limit effort="50" lower="-1.57" upper="1.57" velocity="40" />
		<dynamics damping="0.0" friction="0.0" />
	</joint>

	<joint name="body_tail_joint_6" type="revolute">
		<parent link="tail_link_5" />
		<child link="tail_link_6" />
		<axis xyz="0 1 0" />
		<origin xyz="0 0 ${tailLength}" rpy="0 0 0" />
		<limit effort="50" lower="-1.57" upper="1.57" velocity="40" />
		<dynamics damping="0.0" friction="0.0" />
	</joint>

	<joint name="body_tail_joint_7" type="revolute">
		<parent link="tail_link_6" />
		<child link="tail_link_7" />
		<axis xyz="0 1 0" />
		<origin xyz="0 0 ${tailLength}" rpy="0 0 0" />
		<limit effort="50" lower="-1.57" upper="1.57" velocity="40" />
		<dynamics damping="0.0" friction="0.0" />
	</joint>

	<joint name="body_tail_joint_8" type="revolute">
		<parent link="tail_link_7" />
		<child link="tail_link_8" />
		<axis xyz="0 1 0" />
		<origin xyz="0 0 ${tailLength}" rpy="0 0 0" />
		<limit effort="50" lower="-1.57" upper="1.57" velocity="40" />
		<dynamics damping="0.0" friction="0.0" />
	</joint>

	<joint name="body_tail_joint_9" type="revolute">
		<parent link="tail_link_8" />
		<child link="tail_link_9" />
		<axis xyz="0 1 0" />
		<origin xyz="0 0 ${tailLength}" rpy="0 0 0" />
		<limit effort="50" lower="-1.57" upper="1.57" velocity="40" />
		<dynamics damping="0.0" friction="0.0" />
	</joint> -->
  <joint name="tail_link_mass_joint" type="fixed">
    <parent link="tail_link_4"/>
    <child link="tail_mass"/>
    <origin xyz="0 0 0.17632"/>
    <dynamic damping="0.0" friction="0.0"/>
  </joint>
  <!-- Transmission Elements Required for Gazebo Control -->
  <transmission name="transmission_body_tail_joint_0">
    <type>transmission_interface/SimpleTransmission</type>
    <joint name="body_tail_joint_0">
      <hardwareInterface>hardware_interface/EffortJointInterface</hardwareInterface>
    </joint>
    <actuator name="motor_body_tail_joint_0">
      <hardwareInterface>hardware_interface/EffortJointInterface</hardwareInterface>
      <mechanicalReduction>1</mechanicalReduction>
    </actuator>
  </transmission>
  <transmission name="transmission_body_tail_joint_1">
    <type>transmission_interface/SimpleTransmission</type>
    <joint name="body_tail_joint_1">
      <hardwareInterface>hardware_interface/EffortJointInterface</hardwareInterface>
    </joint>
    <actuator name="motor_body_tail_joint_1">
      <hardwareInterface>hardware_interface/EffortJointInterface</hardwareInterface>
      <mechanicalReduction>1</mechanicalReduction>
    </actuator>
  </transmission>
  <transmission name="transmission_body_tail_joint_2">
    <type>transmission_interface/SimpleTransmission</type>
    <joint name="body_tail_joint_2">
      <hardwareInterface>hardware_interface/EffortJointInterface</hardwareInterface>
    </joint>
    <actuator name="motor_body_tail_joint_2">
      <hardwareInterface>hardware_interface/EffortJointInterface</hardwareInterface>
      <mechanicalReduction>1</mechanicalReduction>
    </actuator>
  </transmission>
  <transmission name="transmission_body_tail_joint_3">
    <type>transmission_interface/SimpleTransmission</type>
    <joint name="body_tail_joint_3">
      <hardwareInterface>hardware_interface/EffortJointInterface</hardwareInterface>
    </joint>
    <actuator name="motor_body_tail_joint_3">
      <hardwareInterface>hardware_interface/EffortJointInterface</hardwareInterface>
      <mechanicalReduction>1</mechanicalReduction>
    </actuator>
  </transmission>
  <transmission name="transmission_body_tail_joint_4">
    <type>transmission_interface/SimpleTransmission</type>
    <joint name="body_tail_joint_4">
      <hardwareInterface>hardware_interface/EffortJointInterface</hardwareInterface>
    </joint>
    <actuator name="motor_body_tail_joint_4">
      <hardwareInterface>hardware_interface/EffortJointInterface</hardwareInterface>
      <mechanicalReduction>1</mechanicalReduction>
    </actuator>
  </transmission>
  <!--
	<transmission name="transmission_body_tail_joint_5">
		<type>transmission_interface/SimpleTransmission</type>
		<joint name="body_tail_joint_5">
			<hardwareInterface>hardware_interface/EffortJointInterface</hardwareInterface>
		</joint>
		<actuator name="motor_body_tail_joint_5">
			<hardwareInterface>hardware_interface/EffortJointInterface</hardwareInterface>
			<mechanicalReduction>1</mechanicalReduction>
		</actuator>
	</transmission>

	<transmission name="transmission_body_tail_joint_6">
		<type>transmission_interface/SimpleTransmission</type>
		<joint name="body_tail_joint_6">
			<hardwareInterface>hardware_interface/EffortJointInterface</hardwareInterface>
		</joint>
		<actuator name="motor_body_tail_joint_6">
			<hardwareInterface>hardware_interface/EffortJointInterface</hardwareInterface>
			<mechanicalReduction>1</mechanicalReduction>
		</actuator>
	</transmission>

	<transmission name="transmission_body_tail_joint_7">
		<type>transmission_interface/SimpleTransmission</type>
		<joint name="body_tail_joint_7">
			<hardwareInterface>hardware_interface/EffortJointInterface</hardwareInterface>
		</joint>
		<actuator name="motor_body_tail_joint_7">
			<hardwareInterface>hardware_interface/EffortJointInterface</hardwareInterface>
			<mechanicalReduction>1</mechanicalReduction>
		</actuator>
	</transmission>

	<transmission name="transmission_body_tail_joint_8">
		<type>transmission_interface/SimpleTransmission</type>
		<joint name="body_tail_joint_8">
			<hardwareInterface>hardware_interface/EffortJointInterface</hardwareInterface>
		</joint>
		<actuator name="motor_body_tail_joint_8">
			<hardwareInterface>hardware_interface/EffortJointInterface</hardwareInterface>
			<mechanicalReduction>1</mechanicalReduction>
		</actuator>
	</transmission>

	<transmission name="transmission_body_tail_joint_9">
		<type>transmission_interface/SimpleTransmission</type>
		<joint name="body_tail_joint_9">
			<hardwareInterface>hardware_interface/EffortJointInterface</hardwareInterface>
		</joint>
		<actuator name="motor_body_tail_joint_9">
			<hardwareInterface>hardware_interface/EffortJointInterface</hardwareInterface>
			<mechanicalReduction>1</mechanicalReduction>
		</actuator>
	</transmission> -->
</robot>
